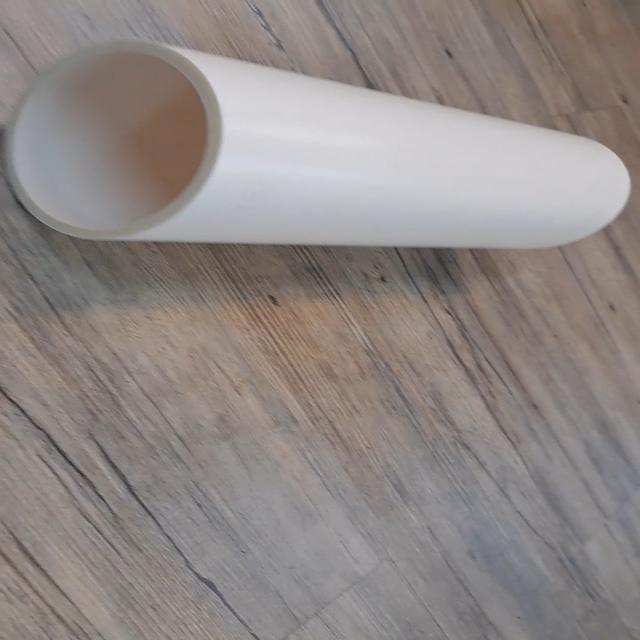CORAL: (0, 22, 632, 265)
